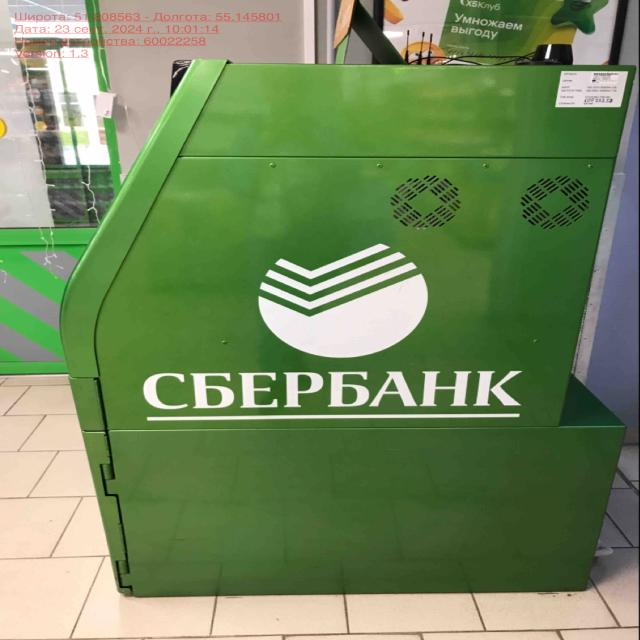bank: (55, 50, 630, 594)
